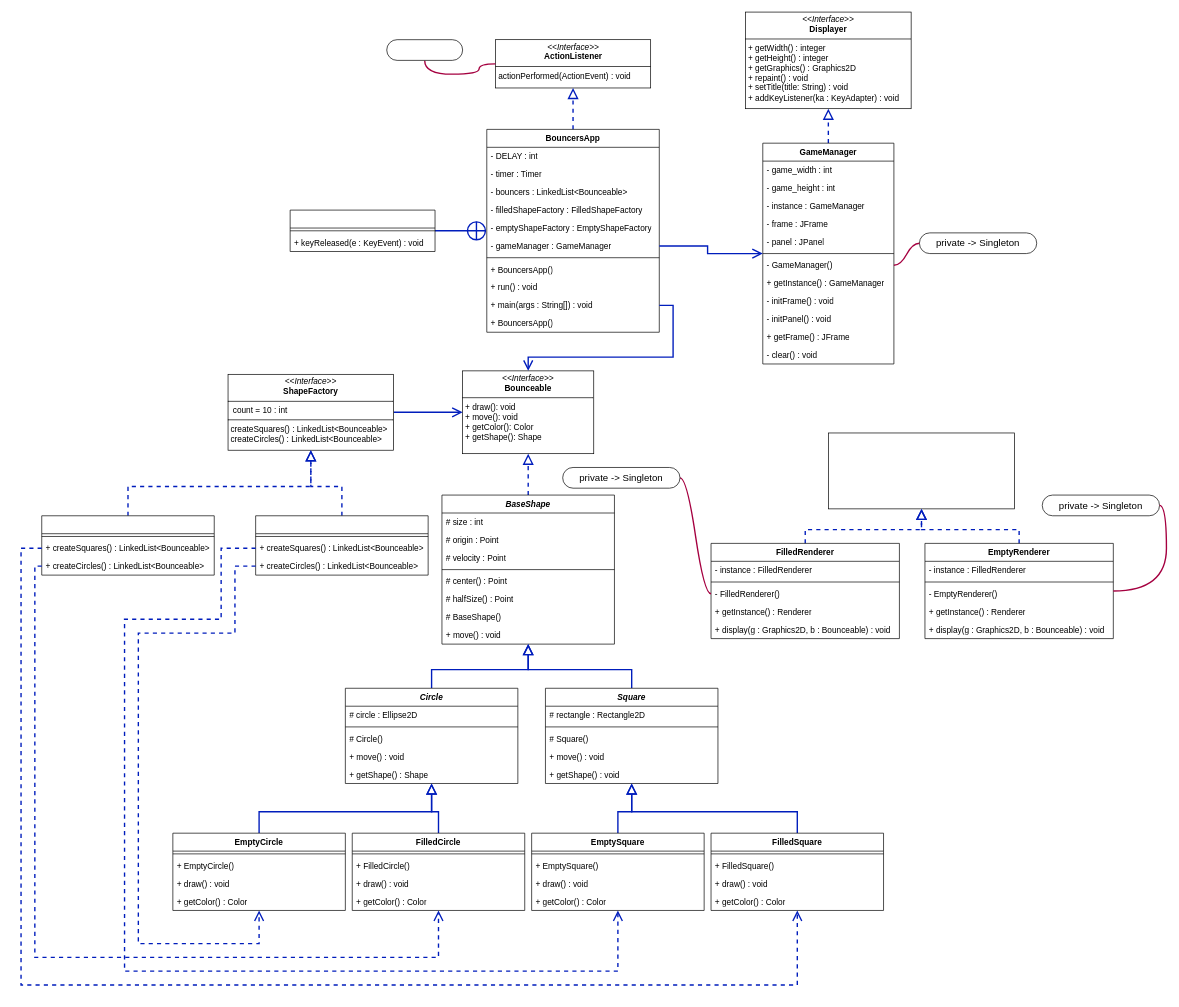
Some shapes in this 1179 by 1007 pixel diagram are drawn without their labels. Each missing label, with the box of its shape:
<<Interface>> Renderer + display(g : Graphics2D, b : Bounceable) : void: (828, 432, 1015, 509)
CustomKeyAdapter: (289, 209, 435, 252)
EmptyShapeFactory: (255, 515, 428, 575)
FilledShapeFactory: (41, 515, 214, 575)
From AWT: (386, 39, 463, 60)
